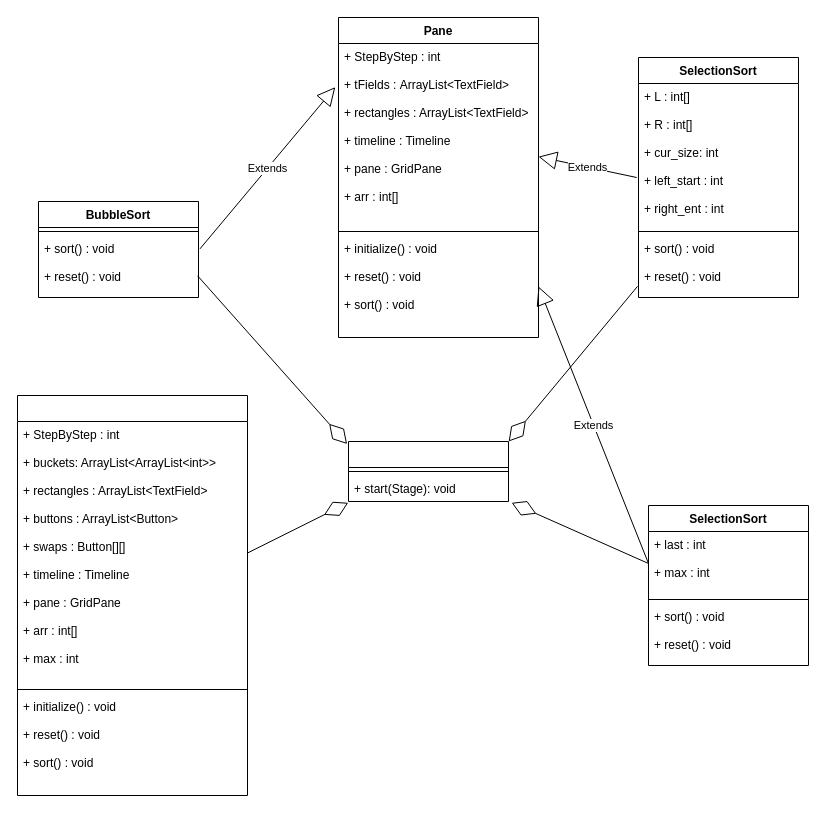
Some shapes in this 826 by 816 pixel diagram are drawn without their labels. Here are the shapes that lost their labels. From the top down, the box of each, then its label:
(348, 440, 508, 502): Controller
(16, 394, 248, 796): BucketSort
